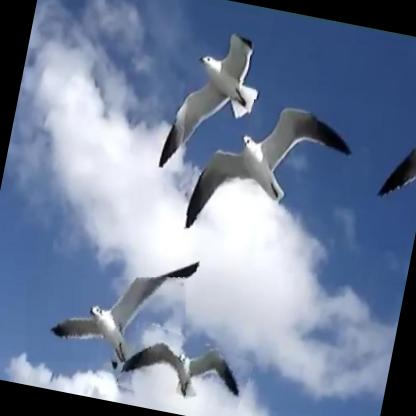bird: (178, 89, 357, 254), (14, 255, 197, 384), (146, 22, 266, 182), (115, 322, 255, 416)
